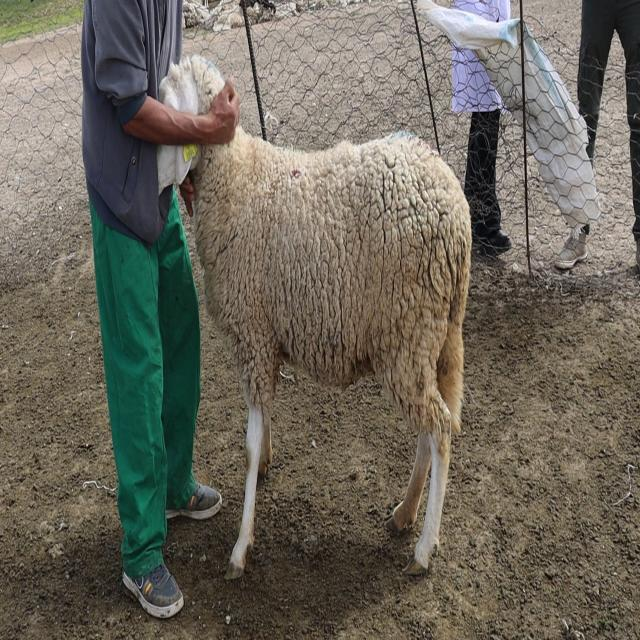Score_5: (157, 123, 472, 578)
